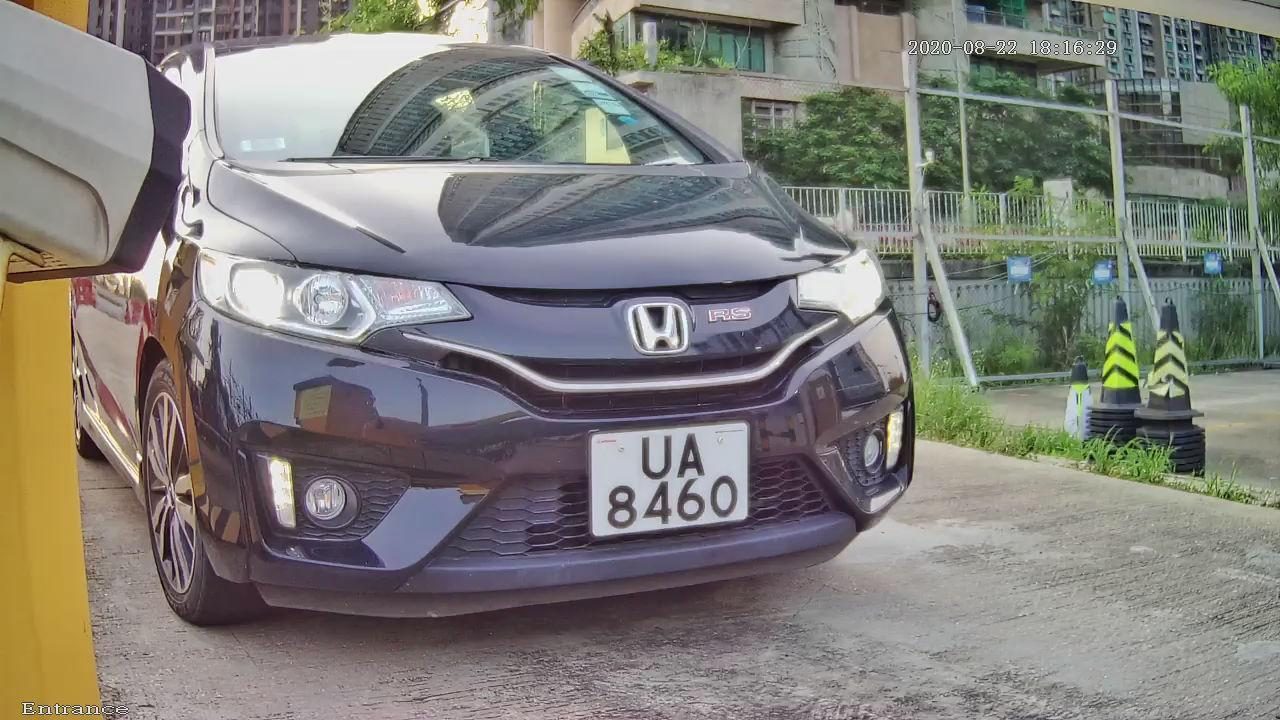License Plate: (578, 405, 755, 553)
